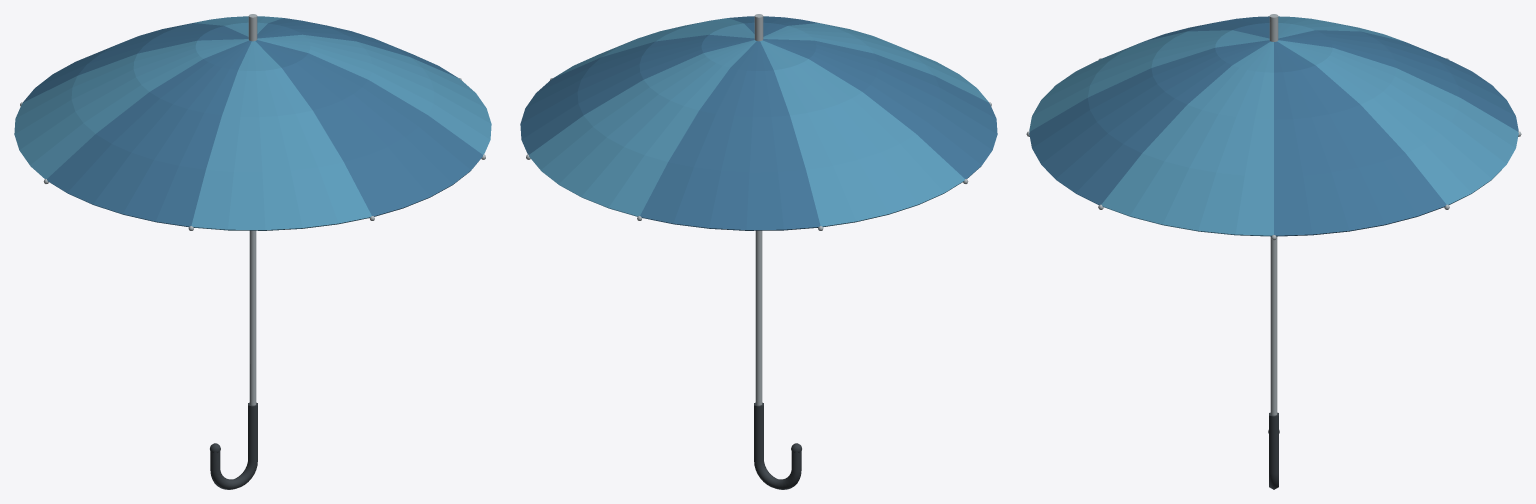
The model's file is umbrella_classic_rain.glb.
3 renders of one model, left to right at view 1: azimuth 30°, elevation 25°; view 2: azimuth 150°, elevation 25°; view 3: azimuth 270°, elevation 25°, orthographic. The views are drawn at different scales.
Parts seen in each view (by area): view 1: ClassicRainUmbrella_Canopy, ClassicRainUmbrella_Hooked_Handle, ClassicRainUmbrella_Shaft; view 2: ClassicRainUmbrella_Canopy, ClassicRainUmbrella_Hooked_Handle, ClassicRainUmbrella_Shaft; view 3: ClassicRainUmbrella_Canopy, ClassicRainUmbrella_Shaft, ClassicRainUmbrella_Hooked_Handle.
Part boxes in pixels (x1,y1,x2,y2): ClassicRainUmbrella_Canopy: (14, 16, 491, 230); ClassicRainUmbrella_Hooked_Handle: (210, 402, 257, 489); ClassicRainUmbrella_Shaft: (249, 230, 256, 405); ClassicRainUmbrella_Canopy: (520, 16, 997, 230); ClassicRainUmbrella_Hooked_Handle: (754, 402, 801, 489); ClassicRainUmbrella_Shaft: (755, 230, 762, 405); ClassicRainUmbrella_Canopy: (1029, 16, 1518, 236); ClassicRainUmbrella_Shaft: (1270, 237, 1277, 415); ClassicRainUmbrella_Hooked_Handle: (1269, 412, 1278, 489).
Bounding box in the file's own units: 1.02 × 1.1 × 1.02.
